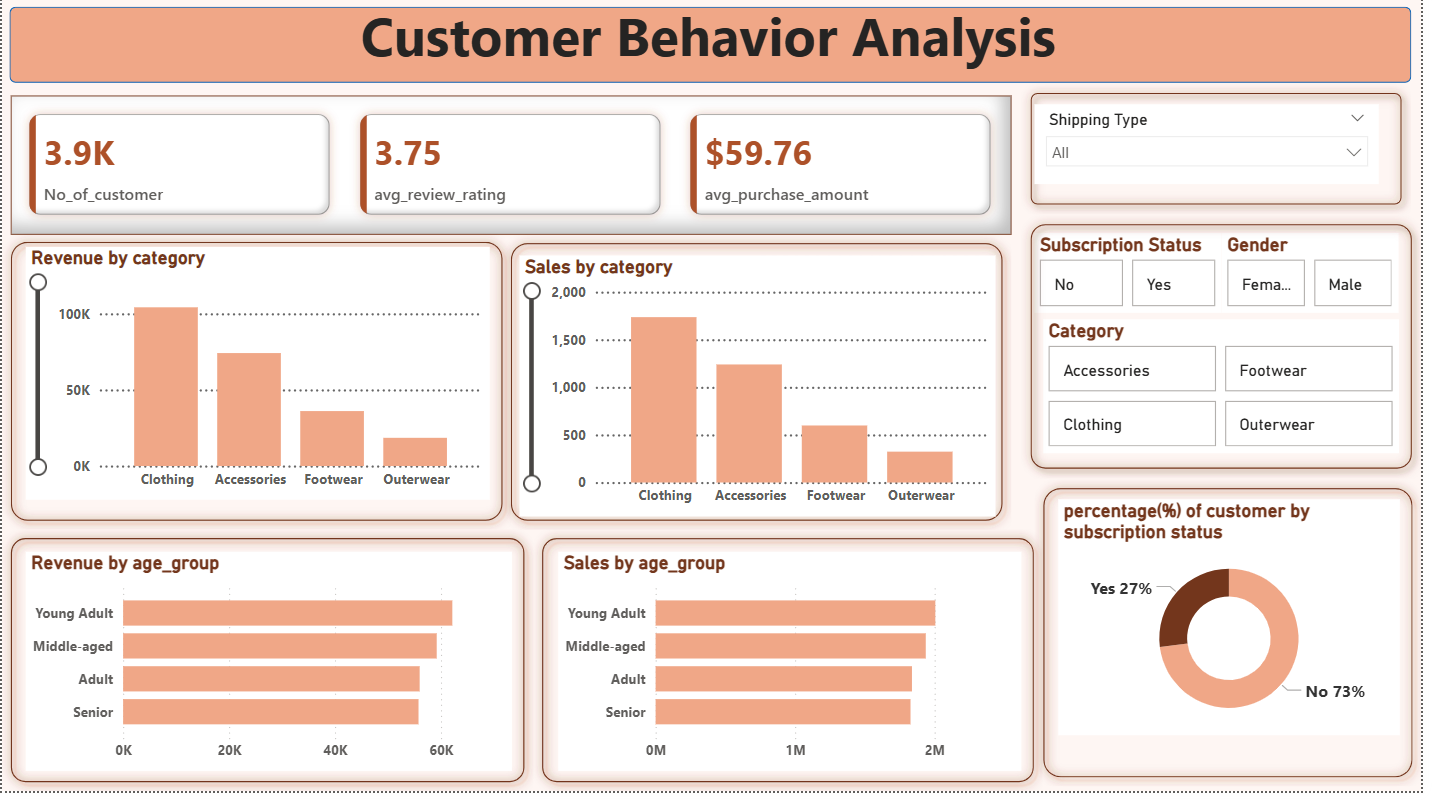

The page's visual inventory and layout, read from the dashboard file:
{"tool":"powerbi","page":{"name":"Customer behavior Dashboard","canvas":[1280,720],"ordinal":0},"visuals":[{"type":"cardVisual","fields":{"Data":["customer_behavior.No_of_customer","customer_behavior.avg_review_rating","customer_behavior.avg_amount"]},"box":[8.1,91.9,902.3,125.6],"z":0},{"type":"shape","box":[7,12.8,1264,68.6],"z":1000},{"type":"textbox","box":[230.2,0,814,81.4],"z":2000},{"type":"shape","box":[931.4,438.4,348.8,276.7],"z":3000},{"type":"donutChart","title":"percentage(%) of customer by subscription status","fields":{"Category":["customer_behavior.subscription_status"],"Y":["CountNonNull(customer_behavior.customer_id)"]},"box":[952.3,457,308.1,212.8],"z":4000},{"type":"shape","box":[0,216.3,459.3,267.4],"z":5000},{"type":"shape","box":[451.2,217.4,459.3,266.3],"z":6000},{"type":"clusteredColumnChart","title":" Revenue by category","fields":{"Y":["Sum(customer_behavior.purchase_amount)"],"Category":["customer_behavior.category"]},"box":[20.9,229.1,417.4,227.9],"z":7000},{"type":"clusteredColumnChart","title":" Sales by category","fields":{"Y":["CountNonNull(customer_behavior.customer_id)"],"Category":["customer_behavior.category"]},"box":[466.3,237.2,429.1,234.9],"z":8000},{"type":"shape","box":[918.6,81.4,352.3,118.6],"z":9000},{"type":"advancedSlicerVisual","title":"Subscription Status","fields":{"Values":["customer_behavior.subscription_status"]},"box":[931.4,216.3,168.6,72.1],"z":10000},{"type":"advancedSlicerVisual","title":"Gender","fields":{"Values":["customer_behavior.gender"]},"box":[1100,216.3,159.3,72.1],"z":11000},{"type":"advancedSlicerVisual","title":"Category","fields":{"Values":["customer_behavior.category"]},"box":[938.4,294.2,320.9,120.9],"z":12000},{"type":"shape","box":[918.6,200,361.6,238.4],"z":13000},{"type":"slicer","fields":{"Values":["customer_behavior.shipping_type"]},"box":[931.4,100,310.5,72.1],"z":14000},{"type":"shape","box":[0,483.7,479.1,236],"z":15000},{"type":"shape","box":[479.1,483.7,459.3,236],"z":16000},{"type":"clusteredBarChart","title":"Revenue by age_group","fields":{"Y":["Sum(customer_behavior.purchase_amount)"],"Category":["customer_behavior.age_group"]},"box":[20.9,503.5,438.4,197.7],"z":17000},{"type":"clusteredBarChart","title":"Sales by age_group","fields":{"Y":["Sum(customer_behavior.customer_id)"],"Category":["customer_behavior.age_group"]},"box":[501.2,503.5,417.4,197.7],"z":18000}]}

Visuals, with their boxes in screenshot pixels (x1, y1, x2, y2), scaled from the page's 1280x720 canvas onto the 1452x800 screenshot:
cardVisual - customer_behavior.No_of_customer x customer_behavior.avg_review_rating: <bbox>9, 102, 1033, 242</bbox>
shape: <bbox>8, 14, 1442, 90</bbox>
textbox: <bbox>261, 0, 1185, 90</bbox>
shape: <bbox>1057, 487, 1451, 795</bbox>
"percentage(%) of customer by subscription status" donutChart: <bbox>1080, 508, 1430, 744</bbox>
shape: <bbox>0, 240, 521, 537</bbox>
shape: <bbox>512, 242, 1033, 537</bbox>
" Revenue by category" clusteredColumnChart: <bbox>24, 255, 497, 508</bbox>
" Sales by category" clusteredColumnChart: <bbox>529, 264, 1016, 525</bbox>
shape: <bbox>1042, 90, 1442, 222</bbox>
"Subscription Status" advancedSlicerVisual: <bbox>1057, 240, 1248, 320</bbox>
"Gender" advancedSlicerVisual: <bbox>1248, 240, 1429, 320</bbox>
"Category" advancedSlicerVisual: <bbox>1064, 327, 1429, 461</bbox>
shape: <bbox>1042, 222, 1451, 487</bbox>
slicer - customer_behavior.shipping_type: <bbox>1057, 111, 1409, 191</bbox>
shape: <bbox>0, 537, 543, 799</bbox>
shape: <bbox>543, 537, 1064, 799</bbox>
"Revenue by age_group" clusteredBarChart: <bbox>24, 559, 521, 779</bbox>
"Sales by age_group" clusteredBarChart: <bbox>569, 559, 1042, 779</bbox>
